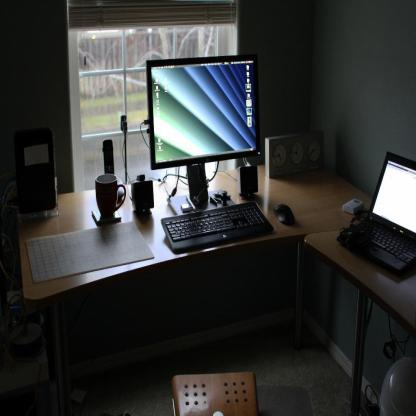board: (341, 150, 416, 276)
